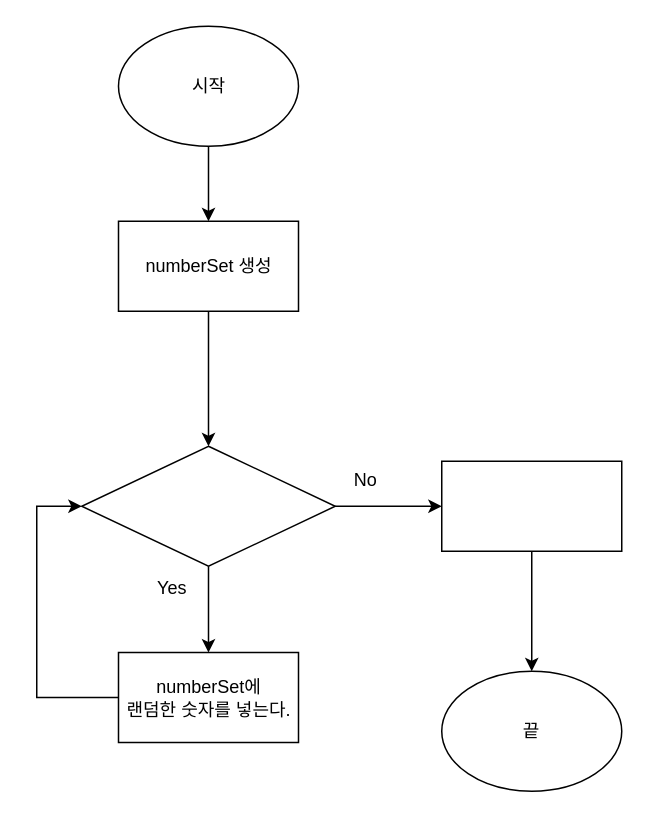
The diagram is 648 pixels wide and 818 high, and some of its shapes have lost their labels. Here are the shapes that lost their labels. From the top down, the centre of each, then its label:
pixel 207 505: numberSet.count가 6보다 작은가?
pixel 531 505: numberSet 반환
